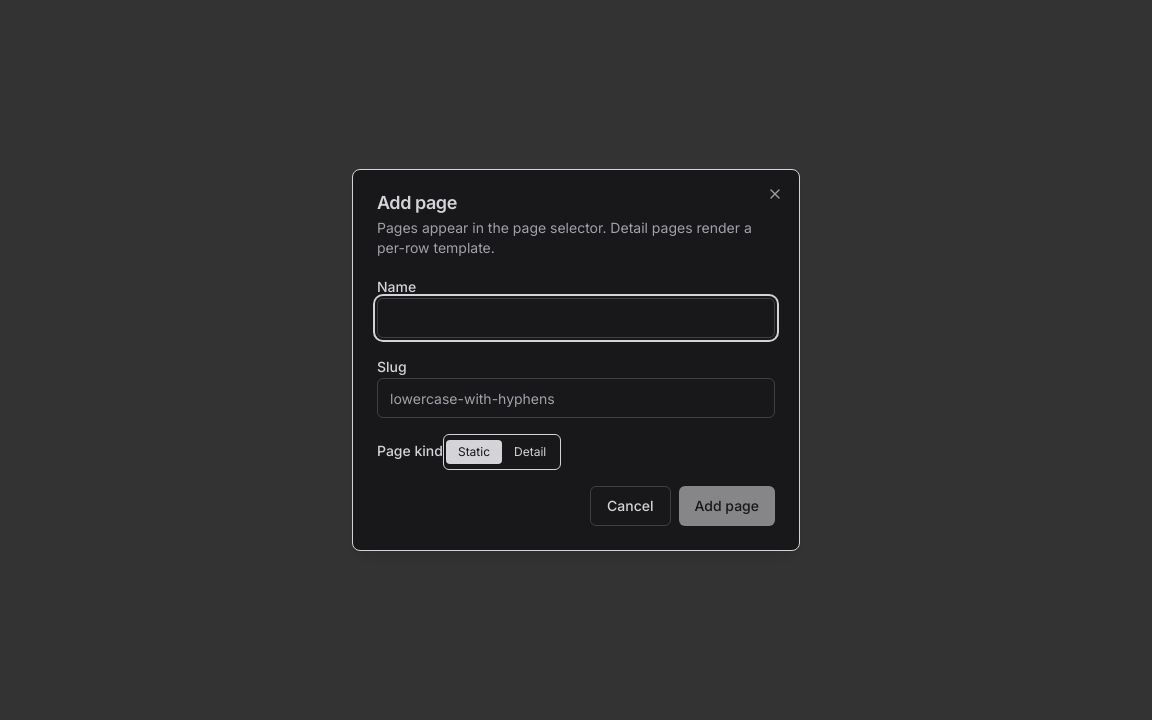
Test case: <AddPageDialog> › hides the data-source dropdown until kind = Detail is selected
Click the button with test id "add-page-kind-detail" at [530, 452], box [502,440,558,464]
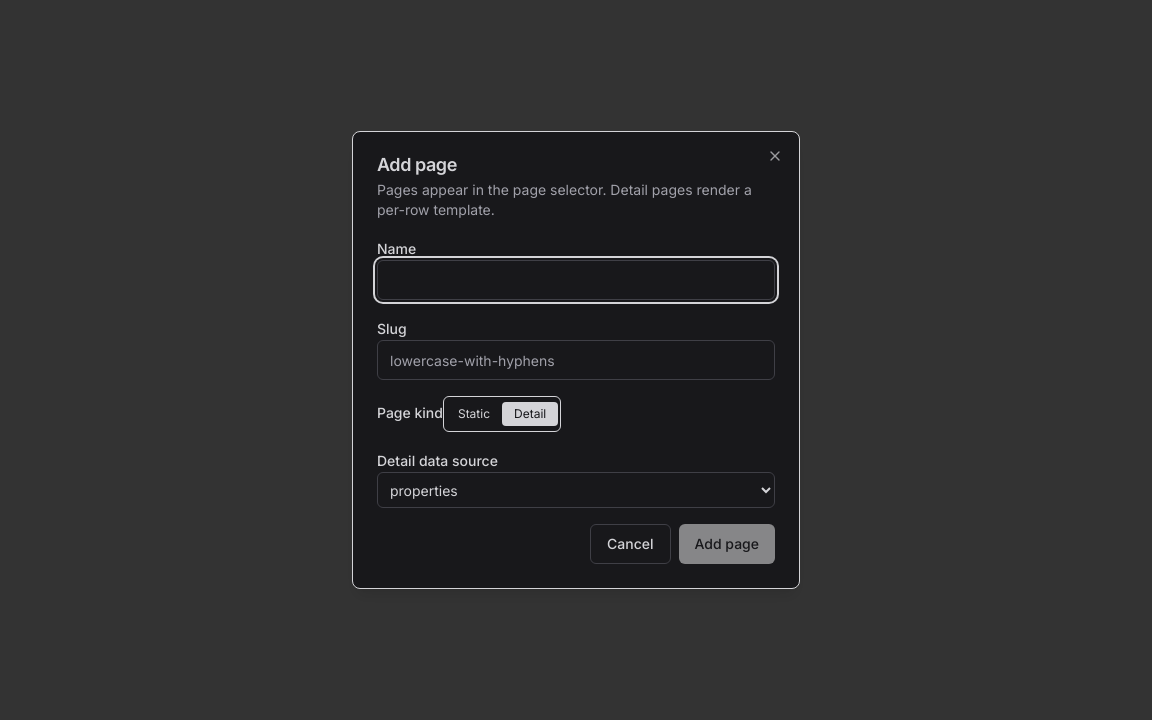
Expected: the dropdown with test id "add-page-data-source" is shown, [377,472,775,508]
